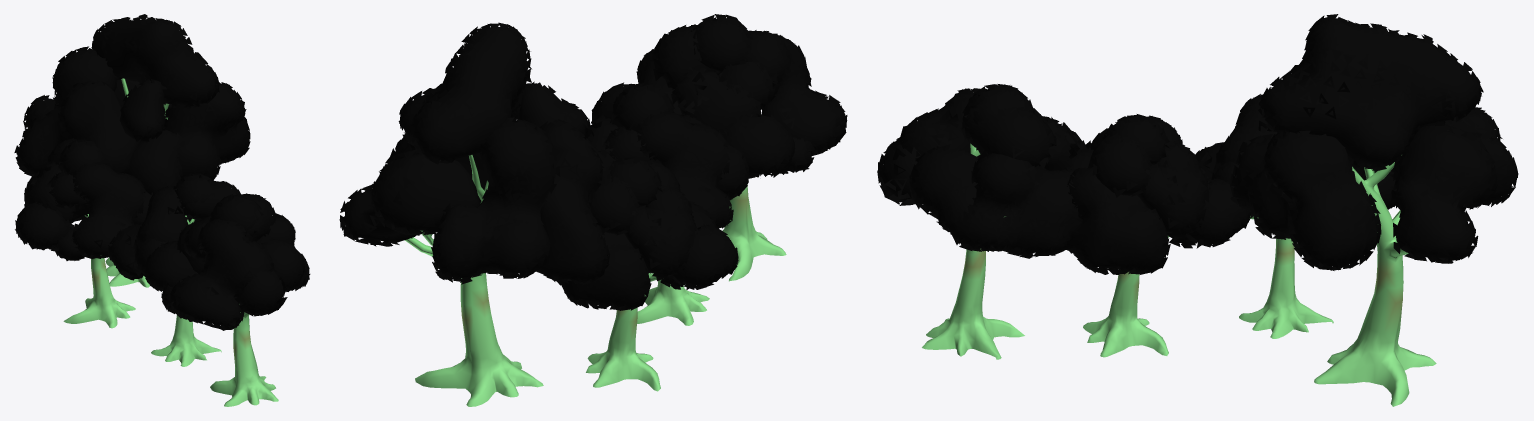
File: SM_ENV_LKNVLD_TreeSet_D.gltf
3 renders of one model, left to right at view 1: azimuth 30°, elevation 25°; view 2: azimuth 150°, elevation 25°; view 3: azimuth 270°, elevation 25°, orthographic. The views are drawn at different scales.
Parts seen in each view (by area): view 1: SM_ENV_LKNVLD_TreeSet_D; view 2: SM_ENV_LKNVLD_TreeSet_D; view 3: SM_ENV_LKNVLD_TreeSet_D.
Part boxes in pixels (x1,y1,x2,y2): SM_ENV_LKNVLD_TreeSet_D: (14,14,310,406); SM_ENV_LKNVLD_TreeSet_D: (339,14,847,406); SM_ENV_LKNVLD_TreeSet_D: (877,14,1518,406).
Bounding box in the file's own units: 13.49 × 13.93 × 22.41.
